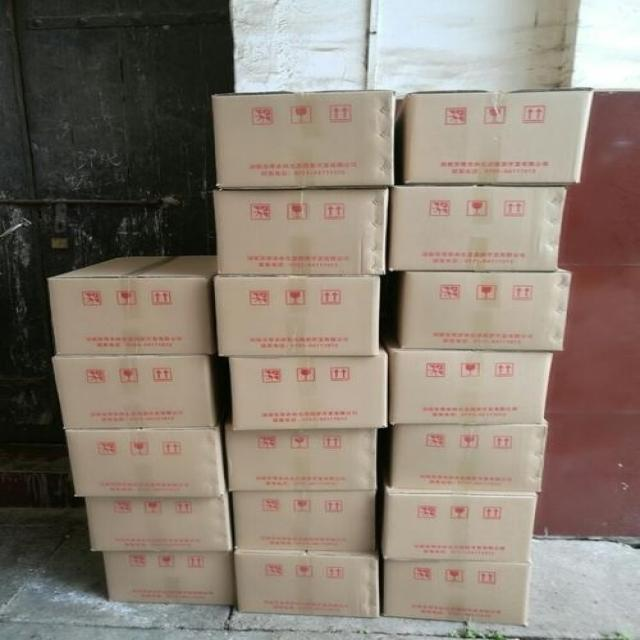box: (397, 87, 596, 186), (211, 90, 398, 189), (49, 255, 218, 355), (384, 332, 553, 425), (389, 184, 567, 272), (214, 187, 389, 275), (396, 267, 572, 352), (214, 276, 381, 357), (378, 478, 536, 562), (52, 353, 225, 429), (229, 350, 389, 430), (65, 423, 228, 498), (389, 423, 547, 493), (225, 425, 378, 492), (234, 548, 380, 617), (383, 560, 531, 628), (86, 493, 234, 553), (232, 493, 376, 552), (104, 552, 236, 606)
